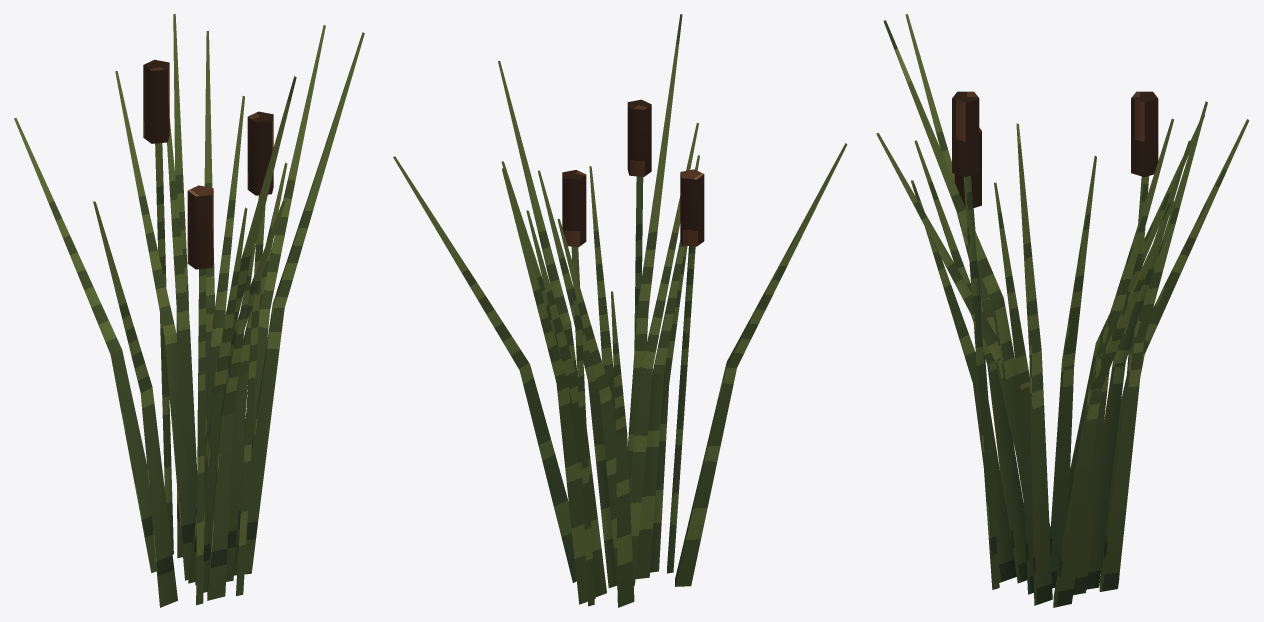
File: lake.reeds.glb
The picture shows the model from 3 angles, left to right: view 1: azimuth 30°, elevation 25°; view 2: azimuth 150°, elevation 25°; view 3: azimuth 270°, elevation 25°; orthographic projection. The views are drawn at different scales.
Visible parts, largest first — view 1: kit_reeds, kit_cattails; view 2: kit_reeds, kit_cattails; view 3: kit_reeds, kit_cattails.
Part boxes in pixels (x1,y1,x2,y2): kit_reeds: (14, 14, 364, 607); kit_cattails: (143, 59, 273, 605); kit_reeds: (393, 14, 847, 607); kit_cattails: (562, 99, 704, 606); kit_reeds: (876, 14, 1249, 607); kit_cattails: (952, 91, 1158, 589).
Bounding box in the file's own units: 1.04 × 1.53 × 0.907.
Materials: 2 (2 with a texture image).
